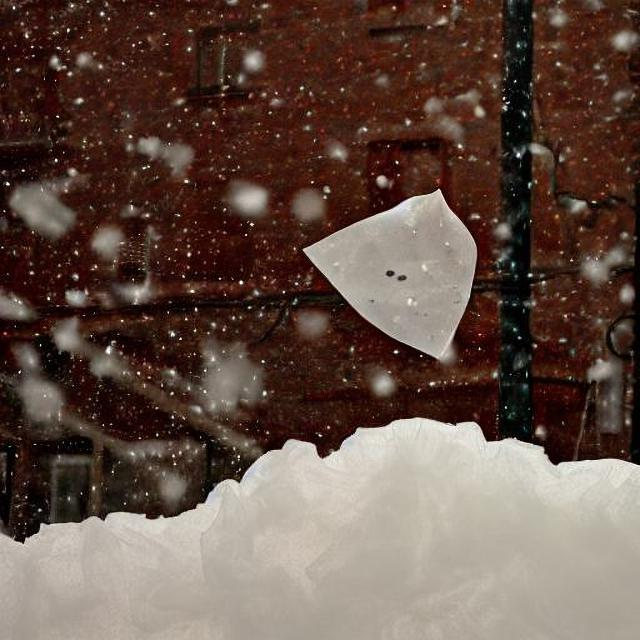plastic bag: (303, 188, 482, 368)
